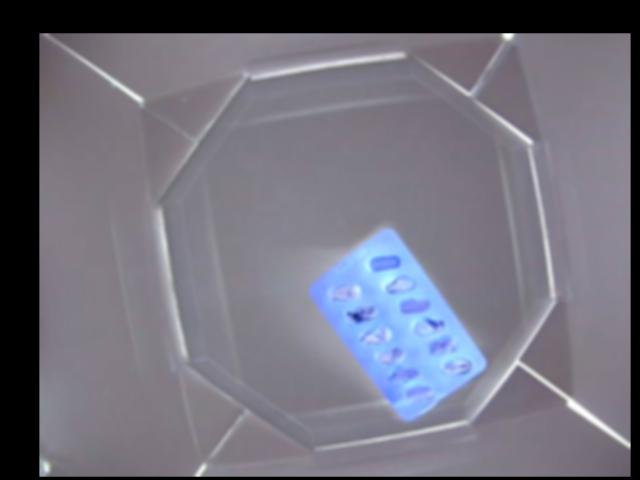Medicine: (310, 227, 488, 422)
